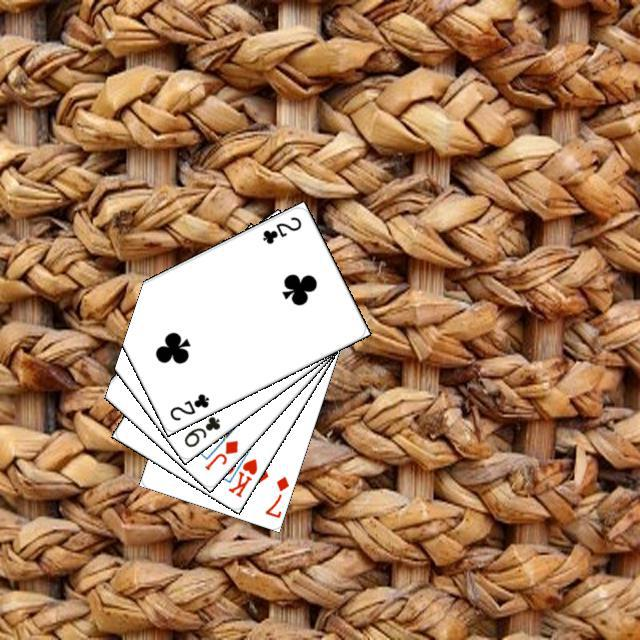2c: (165, 388, 211, 422), (257, 212, 303, 246)
7d: (260, 471, 291, 519)
9c: (179, 411, 222, 449)
Jd: (199, 435, 240, 472)
Kh: (221, 445, 259, 499)
